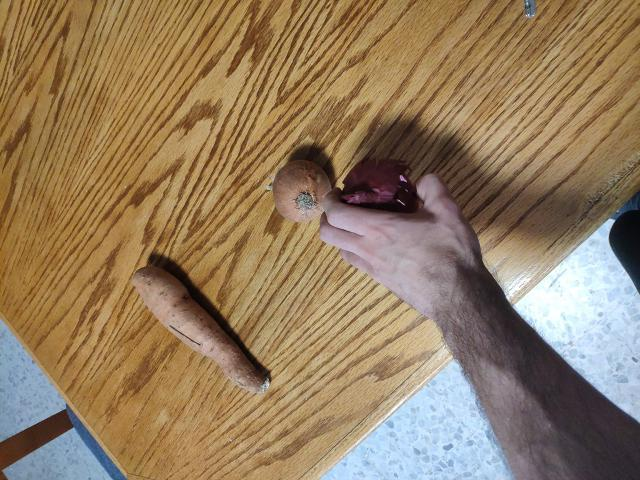onion: (276, 150, 341, 220)
